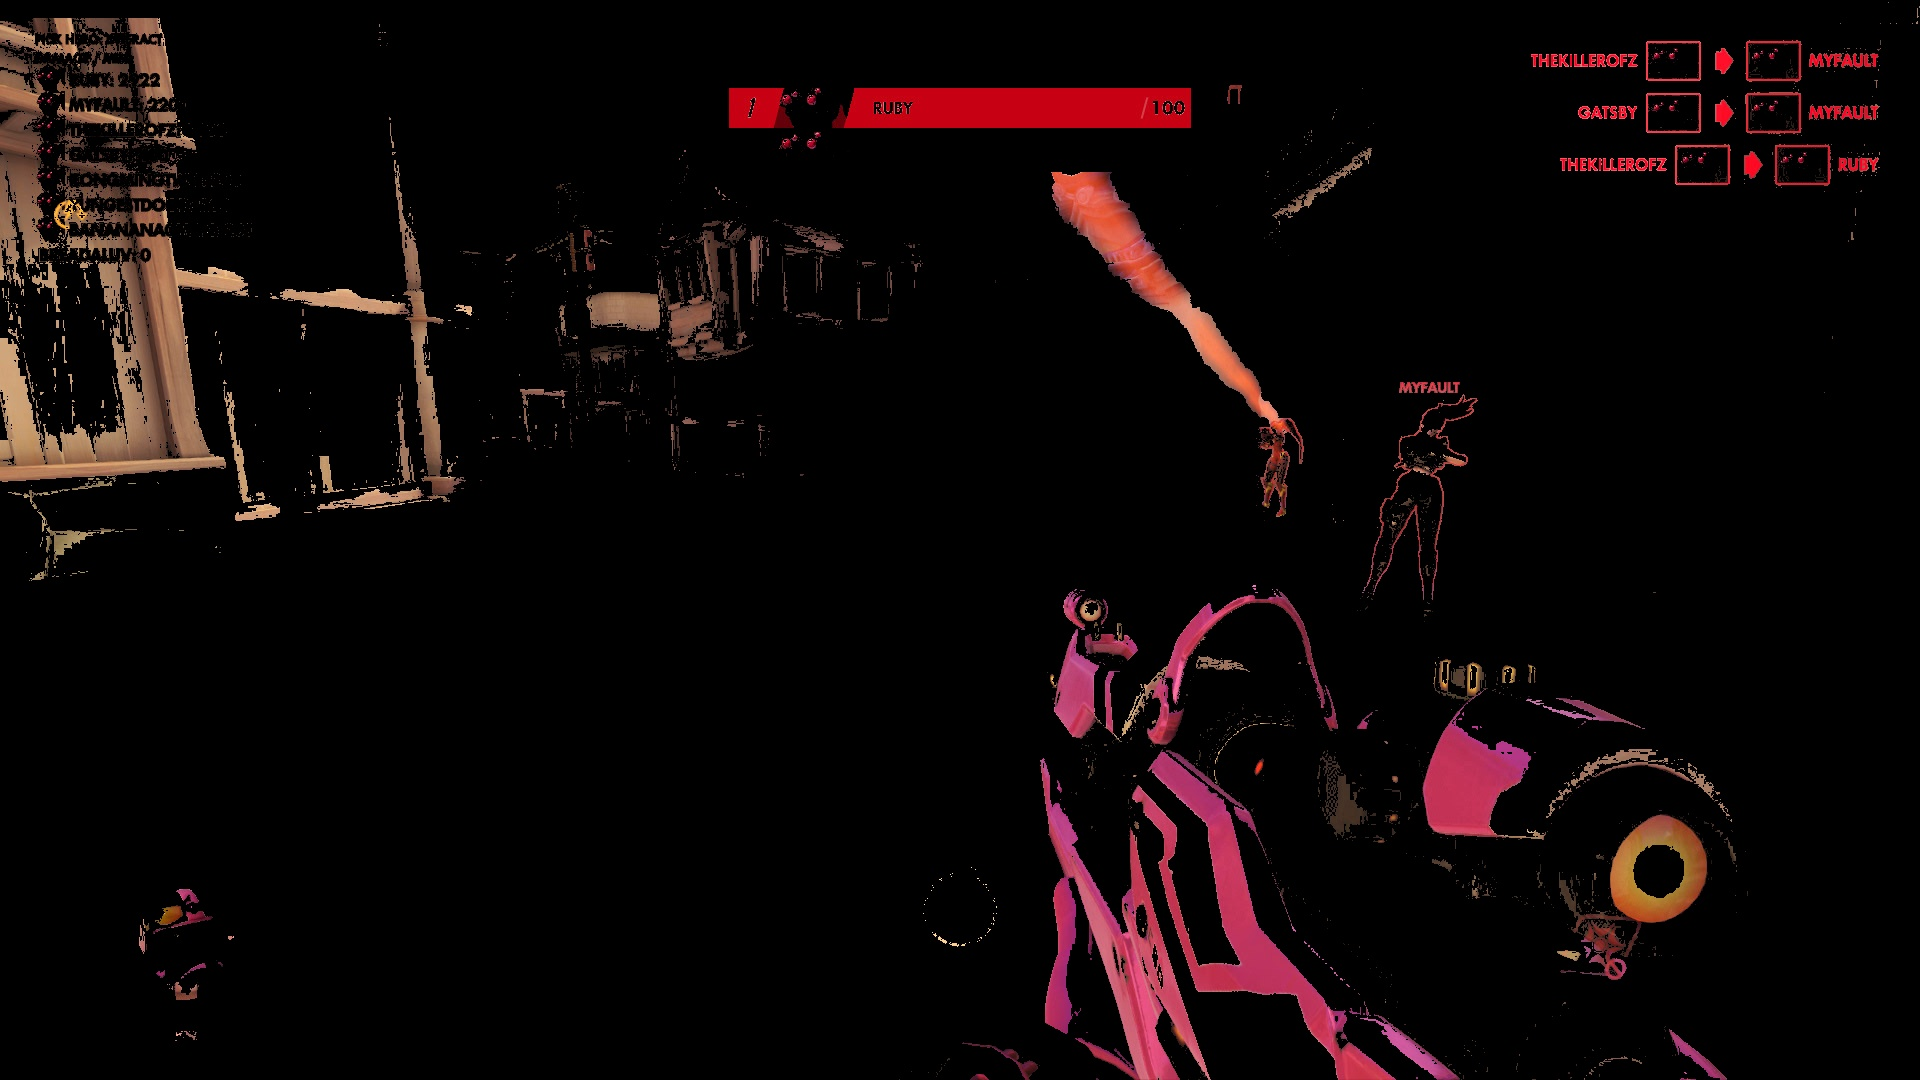widowmaker: (1320, 397, 1481, 636), (1247, 411, 1303, 524)
